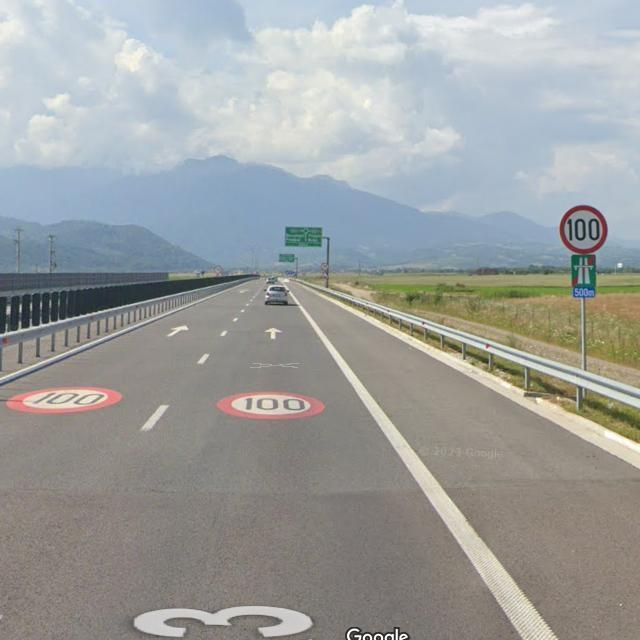forb_speed_over_100: (5, 385, 124, 415), (215, 389, 326, 419), (560, 204, 610, 254)
